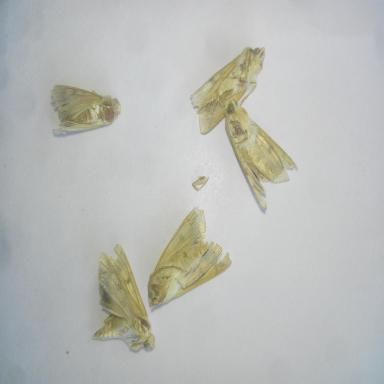abw: (146, 202, 234, 312), (222, 95, 300, 215), (89, 240, 157, 354), (188, 44, 268, 138), (48, 81, 123, 140)
